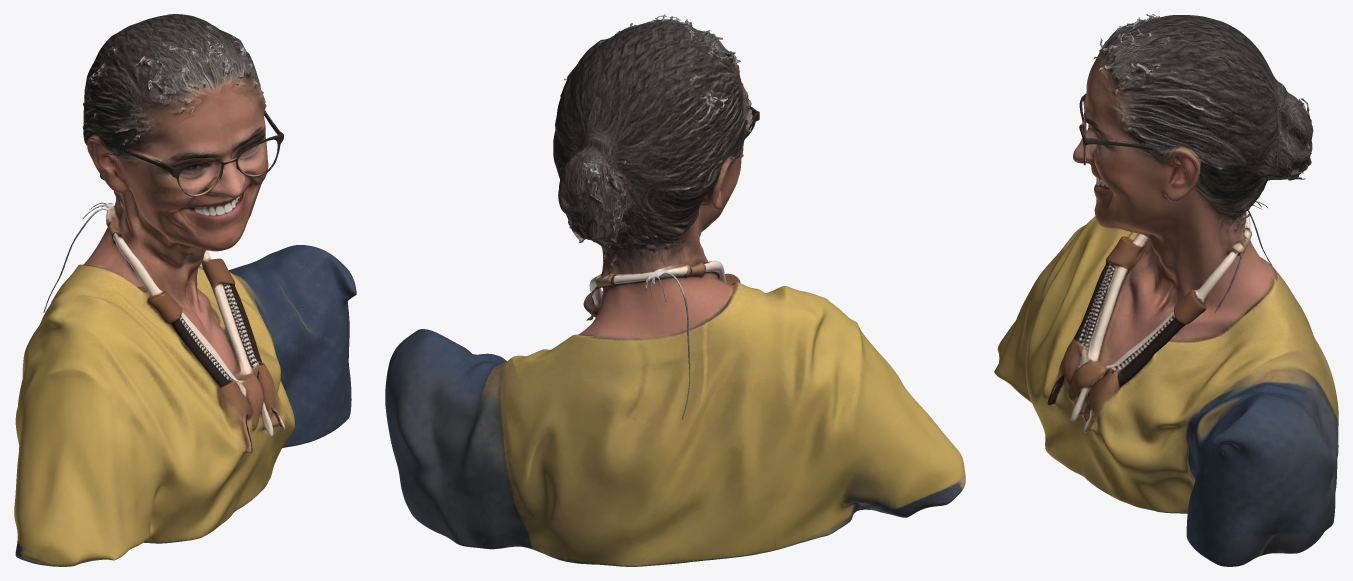
File: Meshy_compressed.glb
3 renders of one model, left to right at view 1: azimuth 30°, elevation 25°; view 2: azimuth 150°, elevation 25°; view 3: azimuth 270°, elevation 25°, orthographic. The views are drawn at different scales.
Bounding box in the file's own units: 1.85 × 1.86 × 1.29.
1 material, 1 textured.
